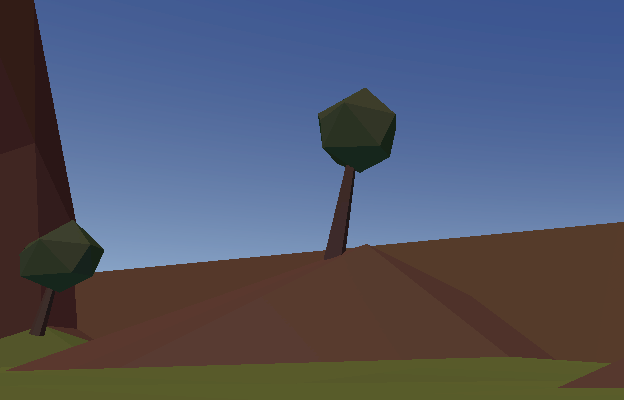tree: (316, 85, 399, 262), (14, 218, 104, 340)
